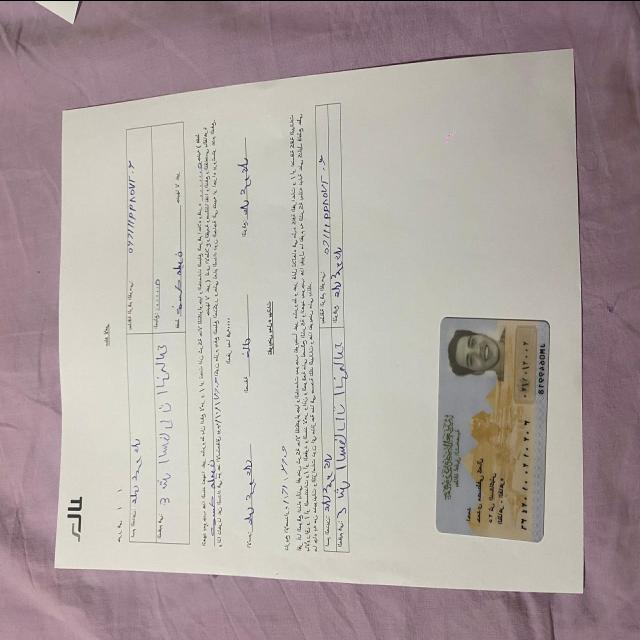id_card: (432, 311, 553, 548)
